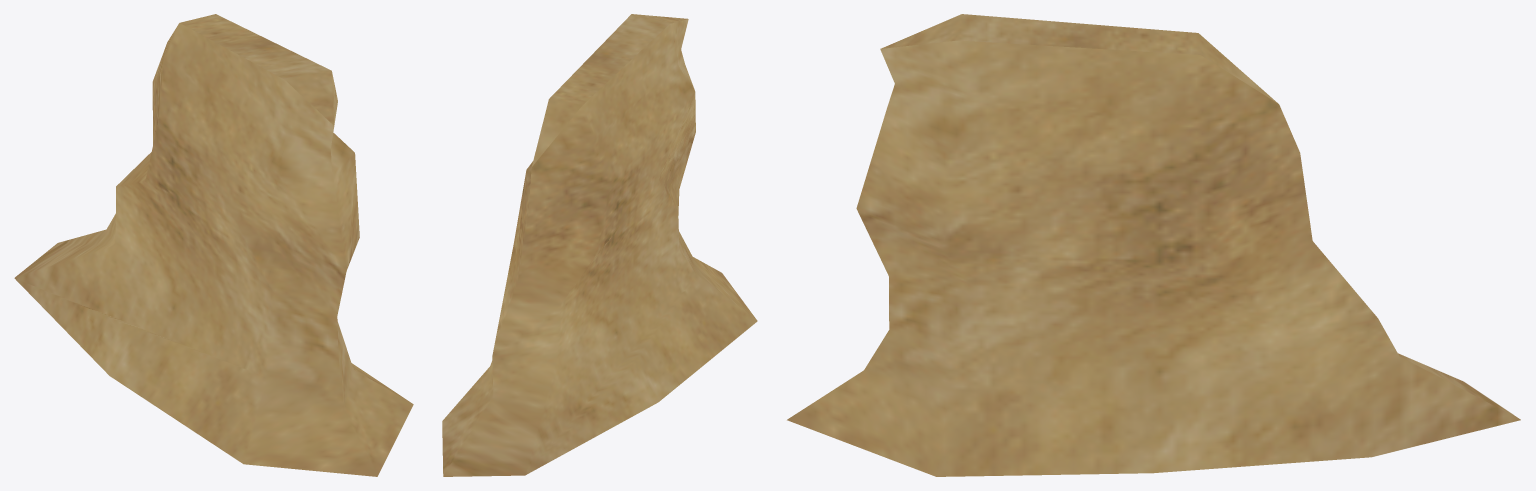
The model's file is rock_formation02.glb.
3 views of the same model, side by side, from view 1: azimuth 30°, elevation 25°; view 2: azimuth 150°, elevation 25°; view 3: azimuth 270°, elevation 25° (orthographic). The views are drawn at different scales.
Visible parts, largest first — view 1: RR_Prop2; view 2: RR_Prop2; view 3: RR_Prop2.
Boxes of the visible parts, x1=… form: RR_Prop2: x1=14, y1=14, x2=413, y2=476; RR_Prop2: x1=442, y1=14, x2=757, y2=476; RR_Prop2: x1=787, y1=14, x2=1520, y2=476.
Bounding box in the file's own units: 17.02 × 28.21 × 47.36.
1 material, 1 textured.
